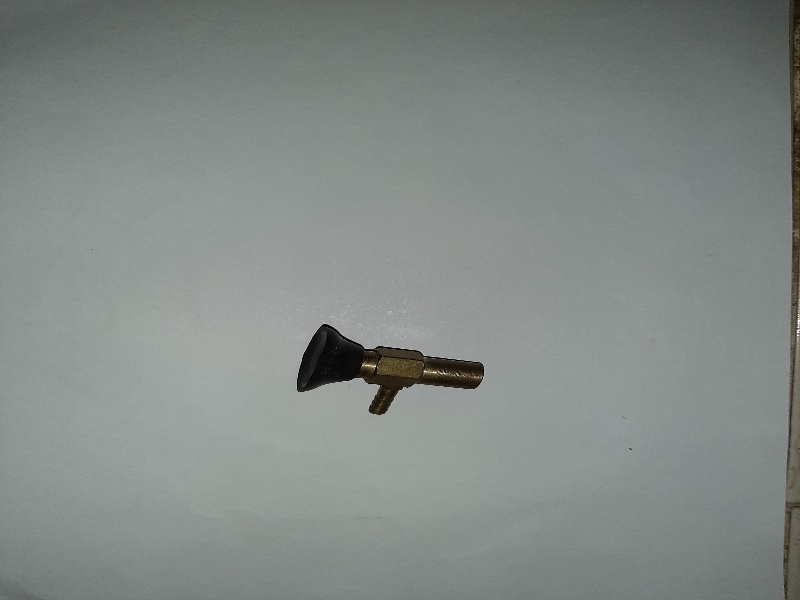Joint Hold: (294, 310, 488, 416)
